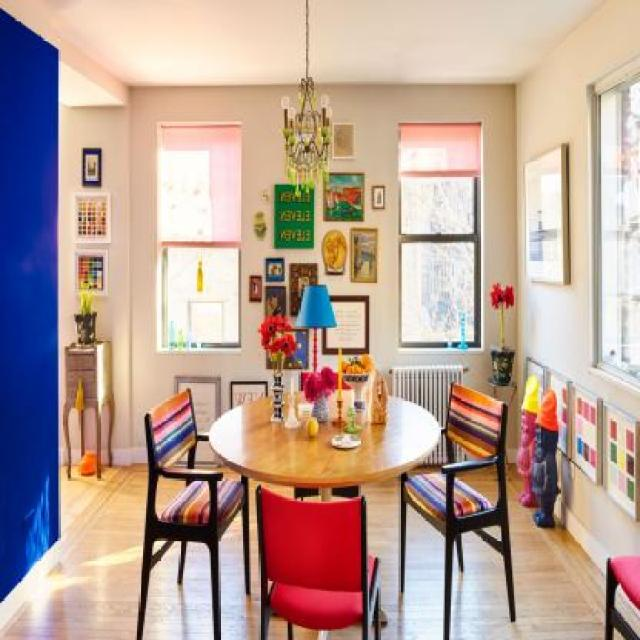floor: (452, 463, 607, 640), (0, 463, 144, 638), (363, 472, 446, 639)
